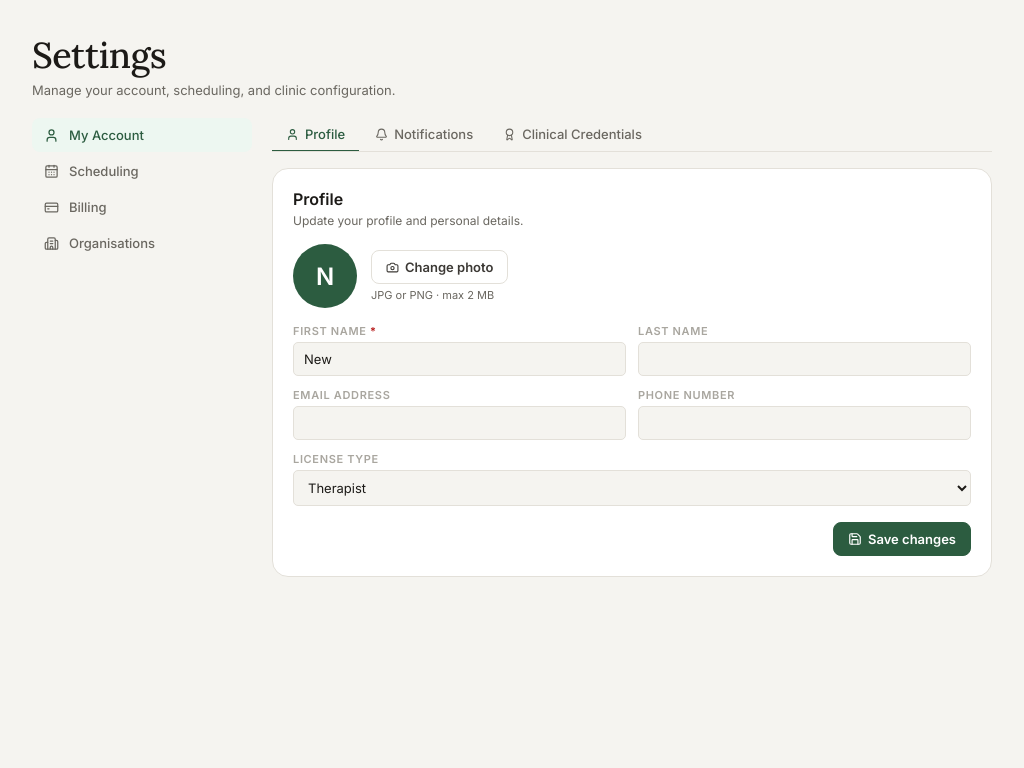
Scenario: <Settings> page — navigation › Billing settings shows the stub
This screenshot has width=1024, height=768.
What coordinates should you click on to do the following:
click the button "Billing"
I would click on:
 (142, 207)
Its box is [32, 190, 252, 224].
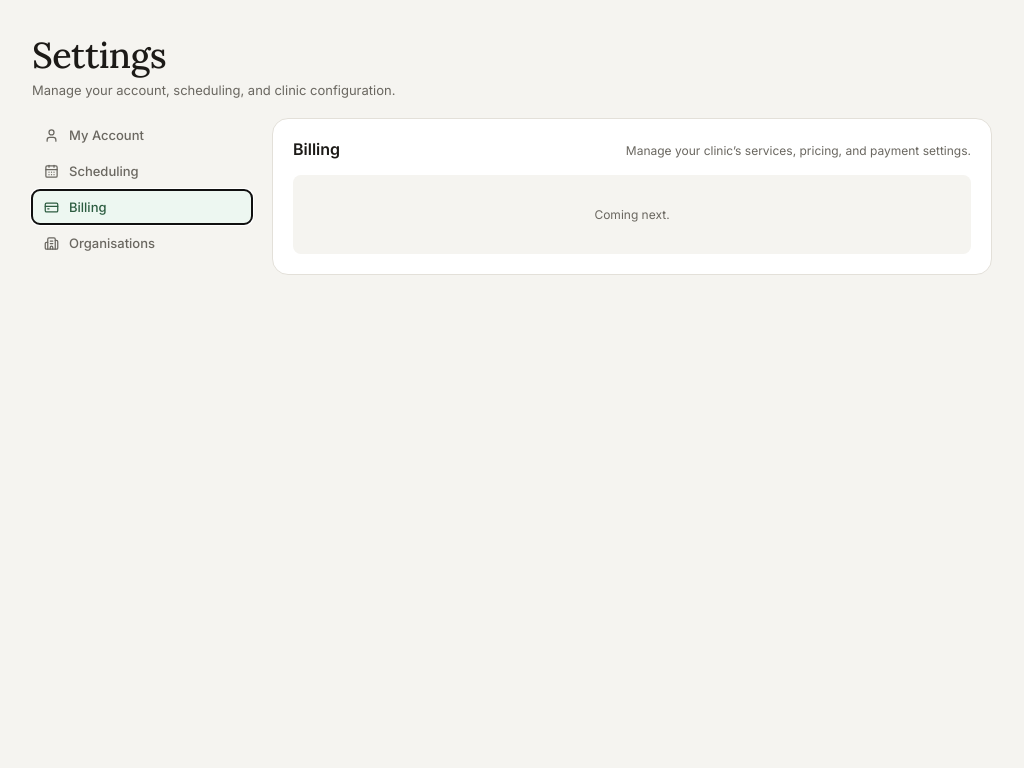
Result: the heading "Billing" is shown at [293, 139, 340, 159]
Result: the text "Coming next." is shown at [293, 175, 971, 254]
